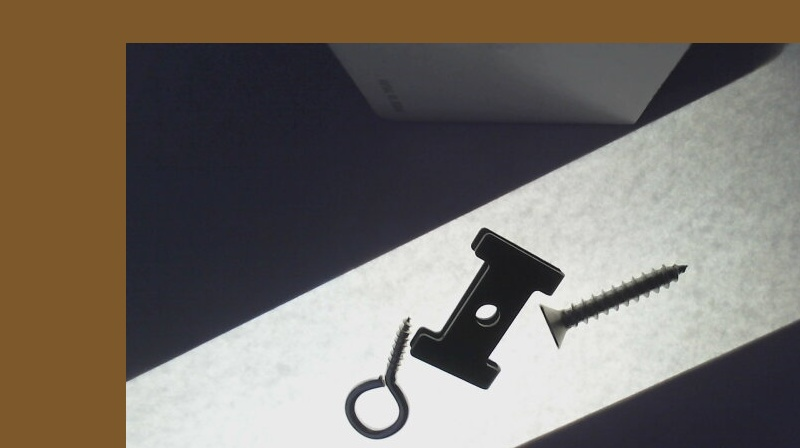O001: (342, 312, 413, 441)
O002: (409, 224, 564, 391)
S001: (541, 263, 685, 346)
